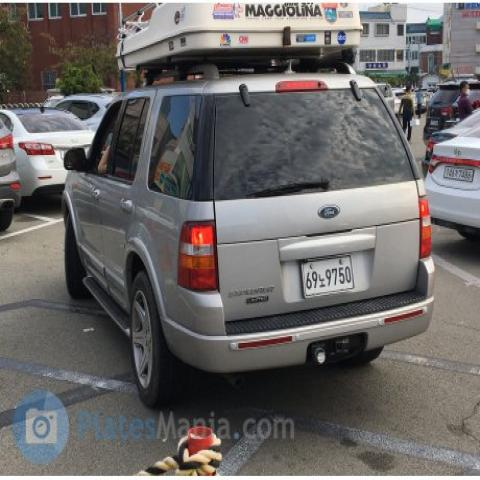LP: (291, 245, 365, 303)
